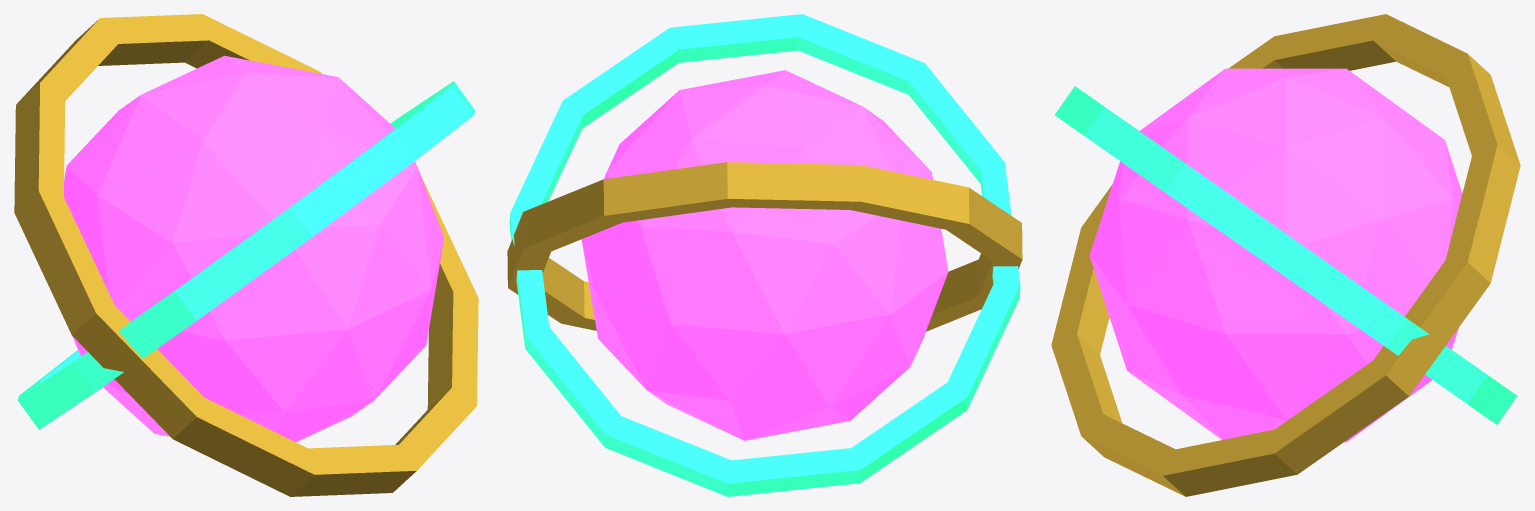
The model's file is EM_Proj_ArcaneHexOrb.glb.
3 views of the same model, side by side, from view 1: azimuth 30°, elevation 25°; view 2: azimuth 150°, elevation 25°; view 3: azimuth 270°, elevation 25° (orthographic). The views are drawn at different scales.
Parts seen in each view (by area): view 1: Proj_ArcaneHexOrb__Core__HexGlow, Proj_ArcaneHexOrb__Core__GoldMetal, Proj_ArcaneHexOrb__Core__JadeGlow; view 2: Proj_ArcaneHexOrb__Core__HexGlow, Proj_ArcaneHexOrb__Core__JadeGlow, Proj_ArcaneHexOrb__Core__GoldMetal; view 3: Proj_ArcaneHexOrb__Core__HexGlow, Proj_ArcaneHexOrb__Core__GoldMetal, Proj_ArcaneHexOrb__Core__JadeGlow.
Part boxes in pixels (box(x1,y1,x2,y2)): Proj_ArcaneHexOrb__Core__HexGlow: box(64, 55, 443, 442); Proj_ArcaneHexOrb__Core__GoldMetal: box(14, 14, 478, 496); Proj_ArcaneHexOrb__Core__JadeGlow: box(17, 81, 475, 429); Proj_ArcaneHexOrb__Core__HexGlow: box(581, 70, 948, 440); Proj_ArcaneHexOrb__Core__JadeGlow: box(509, 14, 1020, 496); Proj_ArcaneHexOrb__Core__GoldMetal: box(507, 162, 1022, 331); Proj_ArcaneHexOrb__Core__HexGlow: box(1089, 68, 1462, 442); Proj_ArcaneHexOrb__Core__GoldMetal: box(1051, 14, 1520, 496); Proj_ArcaneHexOrb__Core__JadeGlow: box(1054, 86, 1517, 424).
Size of the model in its own units: 2.84 by 2.2 by 2.63.
